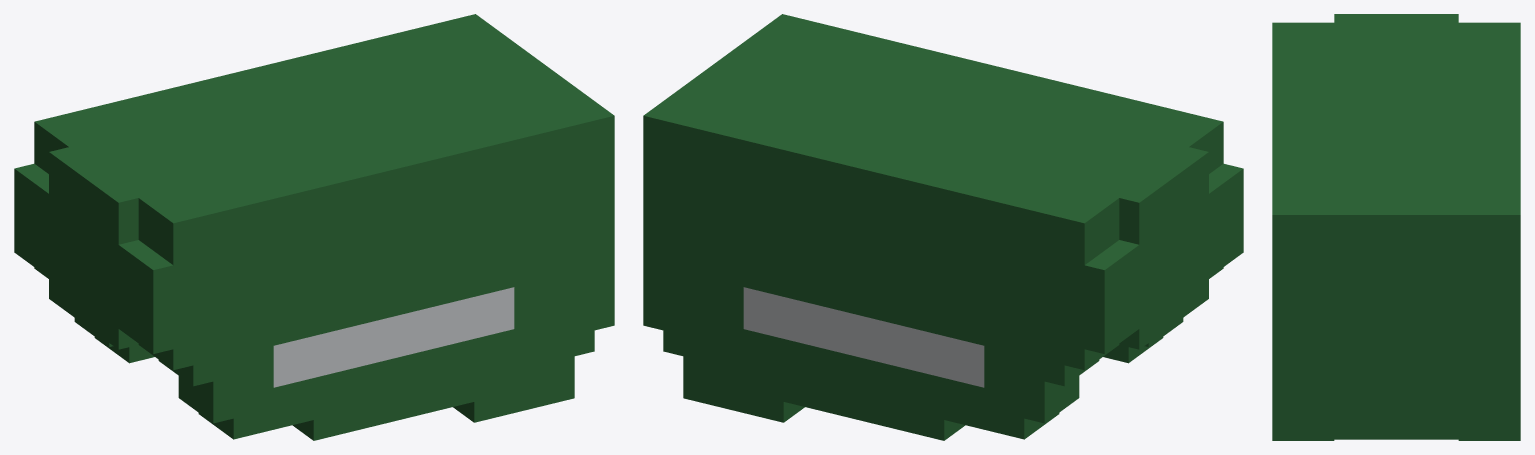
File: scooter_cowl.glb
3 renders of one model, left to right at view 1: azimuth 30°, elevation 25°; view 2: azimuth 150°, elevation 25°; view 3: azimuth 270°, elevation 25°, orthographic. The views are drawn at different scales.
Visible parts, largest first — view 1: body:compound; view 2: body:compound; view 3: body:compound.
Boxes of the visible parts, x1=… form: body:compound: x1=14, y1=14, x2=614, y2=440; body:compound: x1=643, y1=14, x2=1243, y2=440; body:compound: x1=1272, y1=14, x2=1520, y2=440.
Bounding box in the file's own units: 0.7188 × 0.4062 × 0.375.
